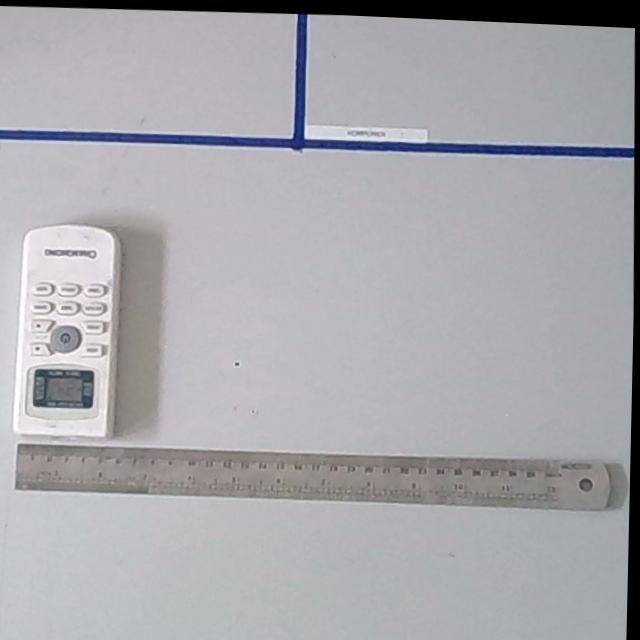remote: (14, 219, 123, 445)
ruler: (15, 427, 617, 517)
